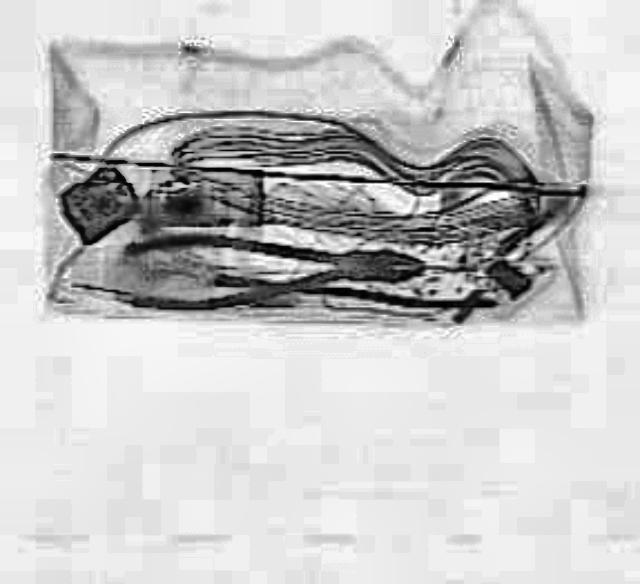Pliers: (118, 226, 424, 306)
